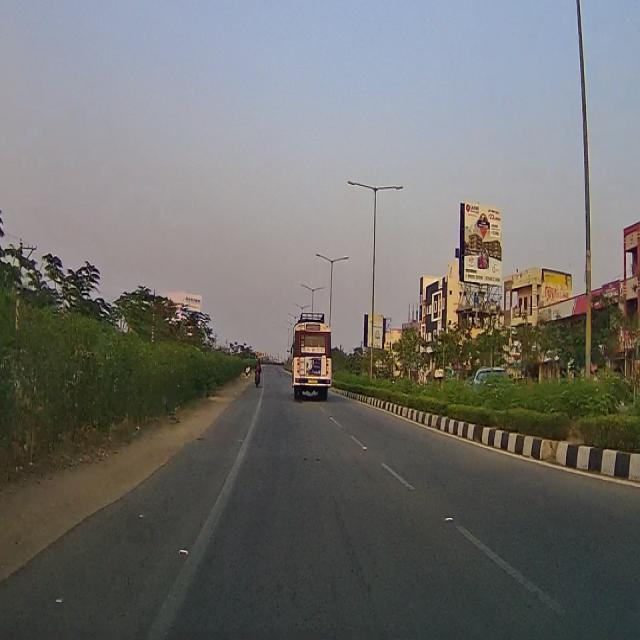bus ahead at: (289, 310, 337, 402)
